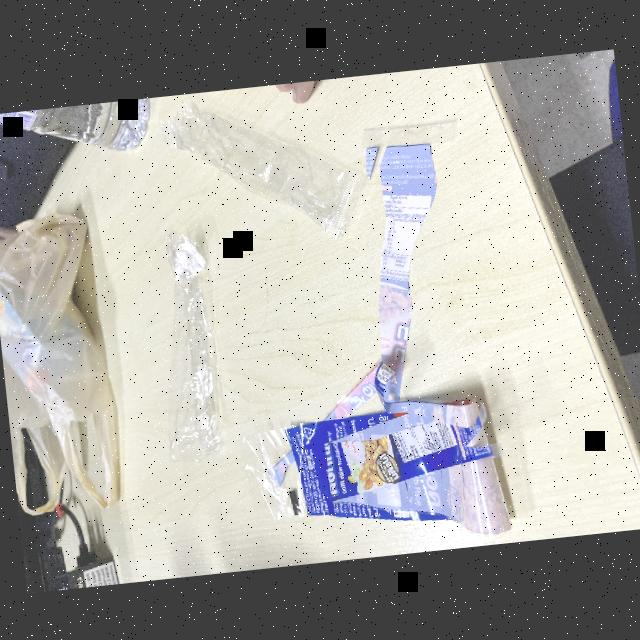scrap_plastic: (242, 346, 538, 556), (175, 76, 366, 257), (133, 216, 240, 482)
